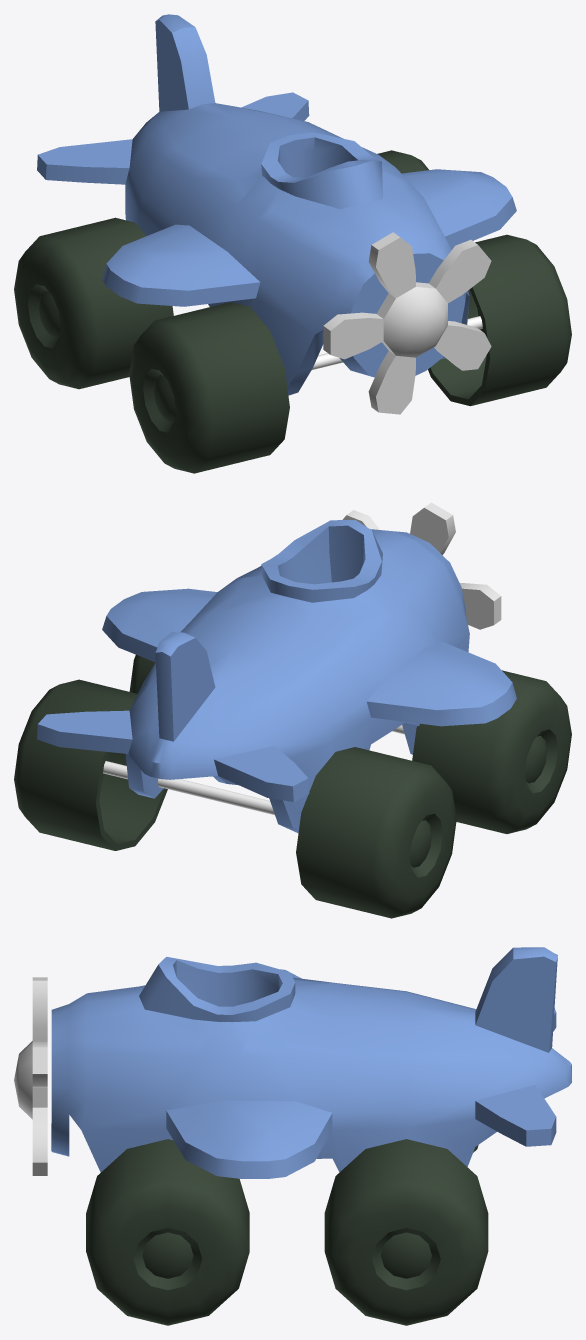
Rendered from toyplane.glb.
The picture shows the model from 3 angles, top to bottom: view 1: azimuth 30°, elevation 25°; view 2: azimuth 150°, elevation 25°; view 3: azimuth 270°, elevation 25°; orthographic projection. The views are drawn at different scales.
Visible parts, largest first — view 1: Toyplane; view 2: Toyplane; view 3: Toyplane.
Boxes of the visible parts, x1,y1,x2,y2 form: Toyplane: (14, 14, 571, 473); Toyplane: (14, 502, 571, 918); Toyplane: (14, 947, 571, 1325).
Bounding box in the file's own units: 5.09 × 3.46 × 6.07.
